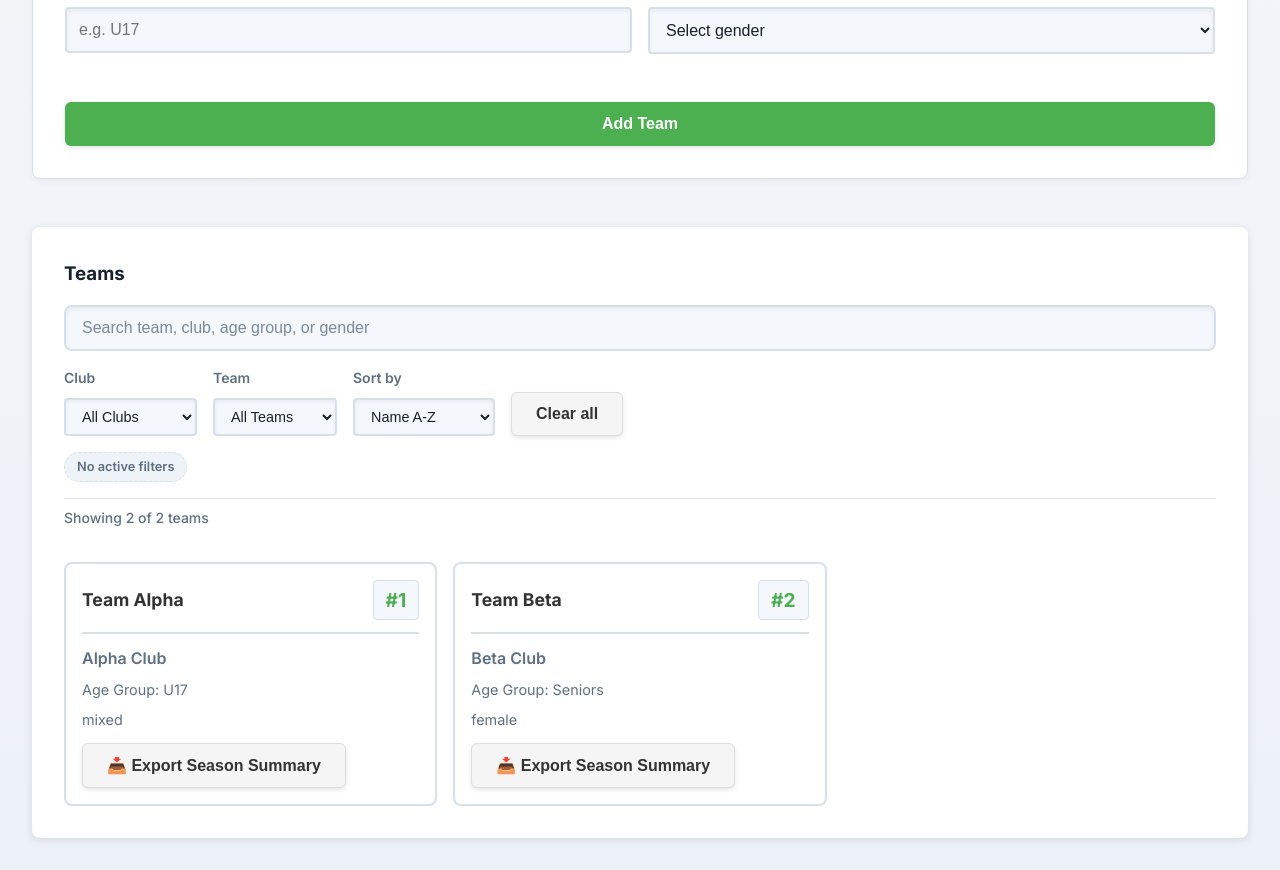
Scenario: Team Management: Create, edit, and export › allows admins to move a team to another club from edit form
(page scrolled)
Click the text "Team Alpha".
click(251, 684)  # box [64, 562, 437, 806]
(page scrolled)
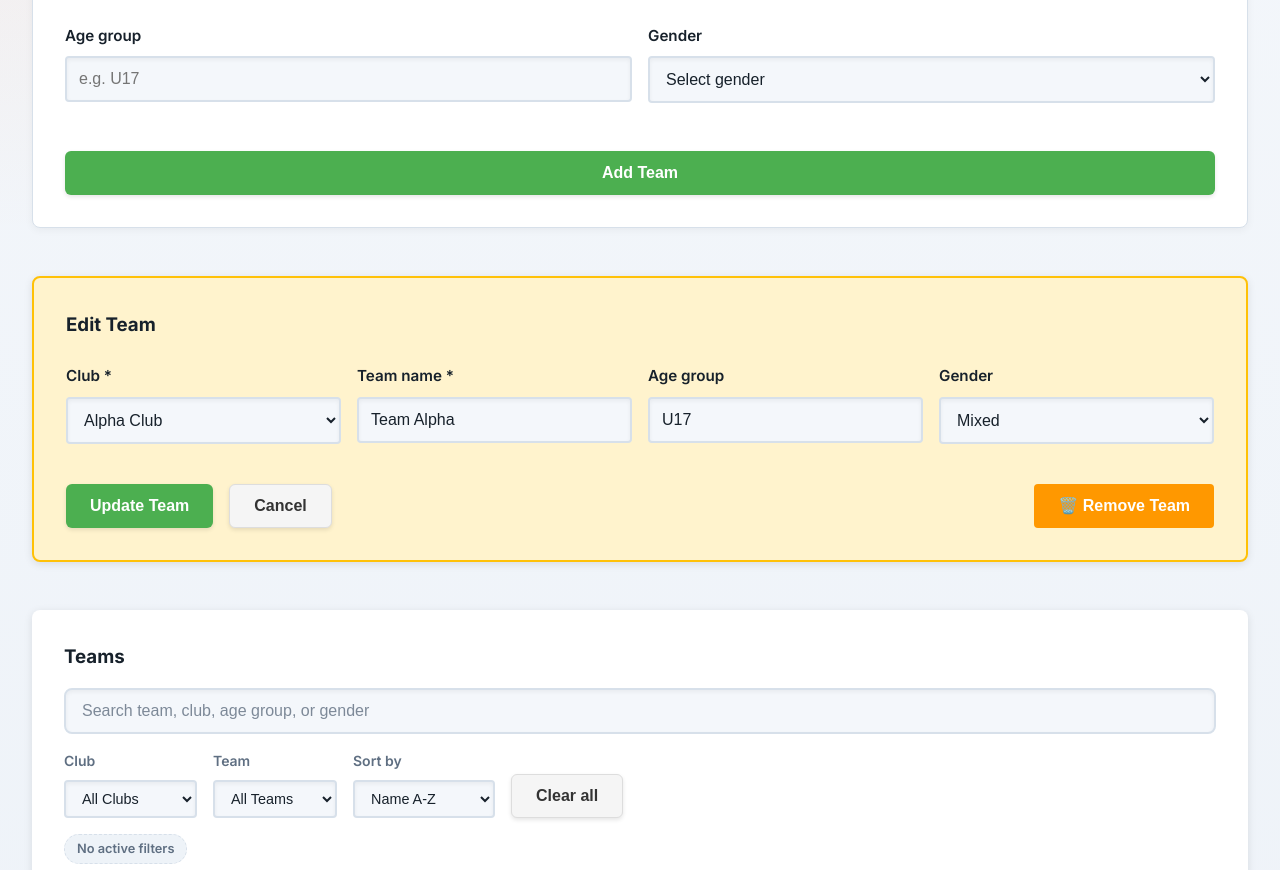
Check: the dropdown with id "edit-team-club" is shown
Select "Beta Club" in the dropdown with id "edit-team-club" at (204, 421), box [66, 397, 341, 444]
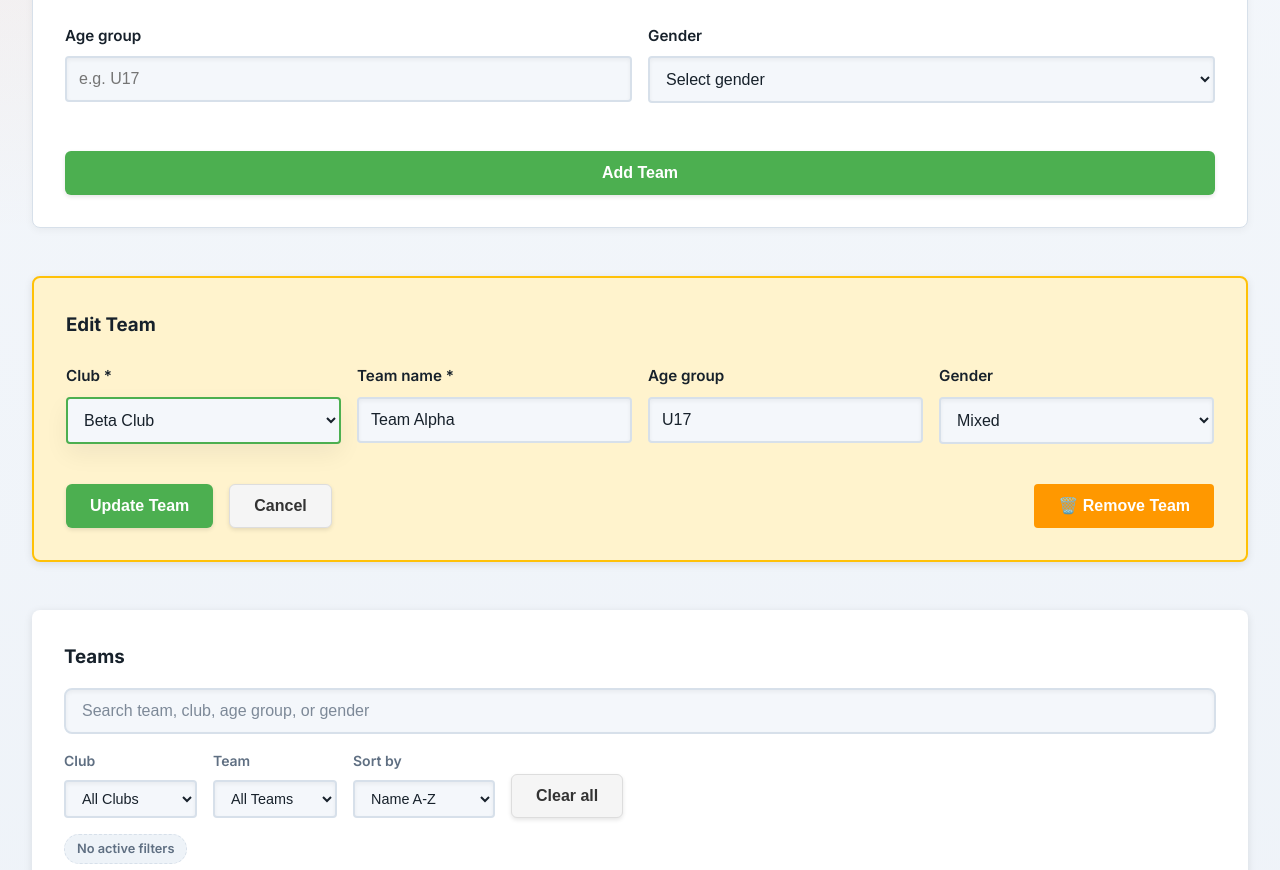
Click the button "Update Team".
click(140, 506)  # box [66, 484, 213, 528]
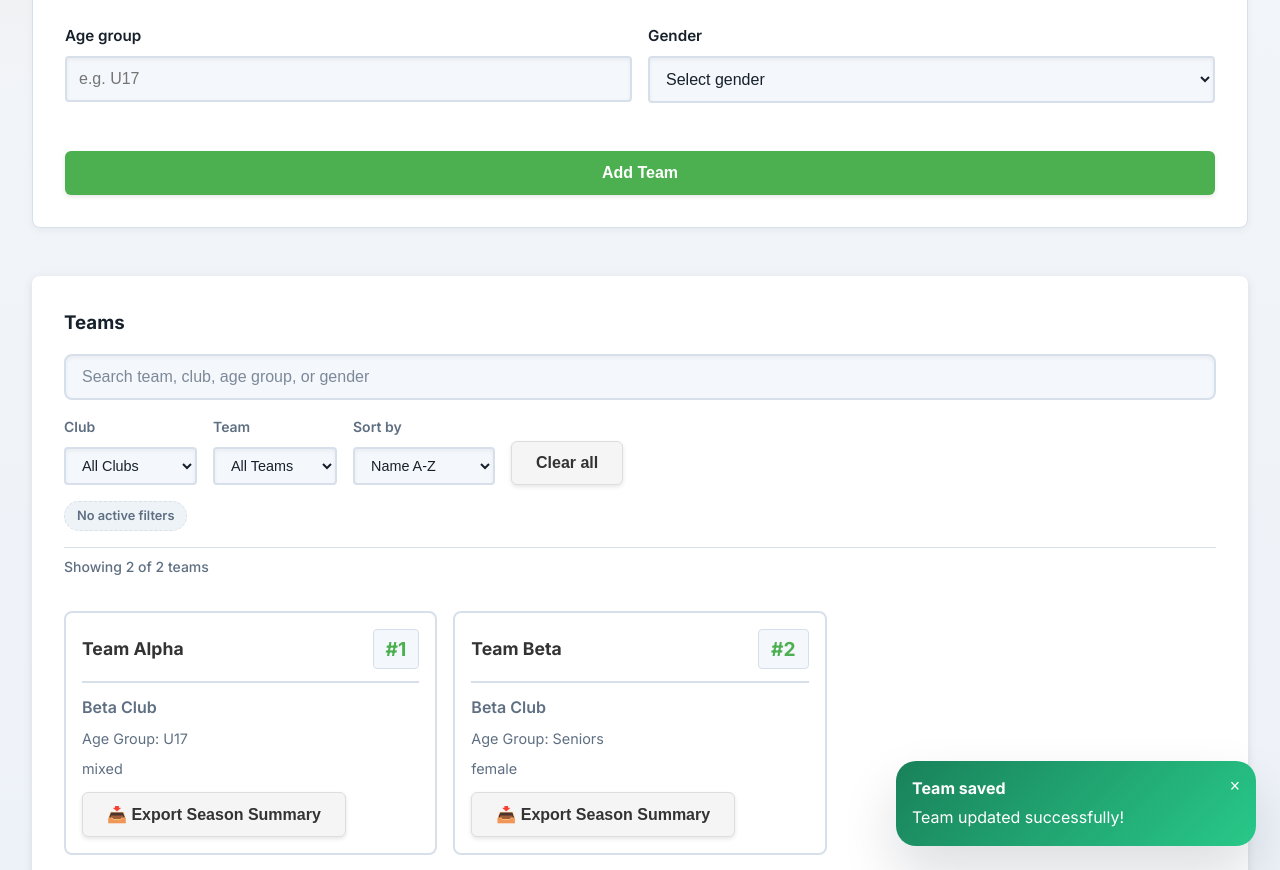
Check: the text "Beta Club" below "Team Alpha" is shown, box [82, 697, 157, 717]
